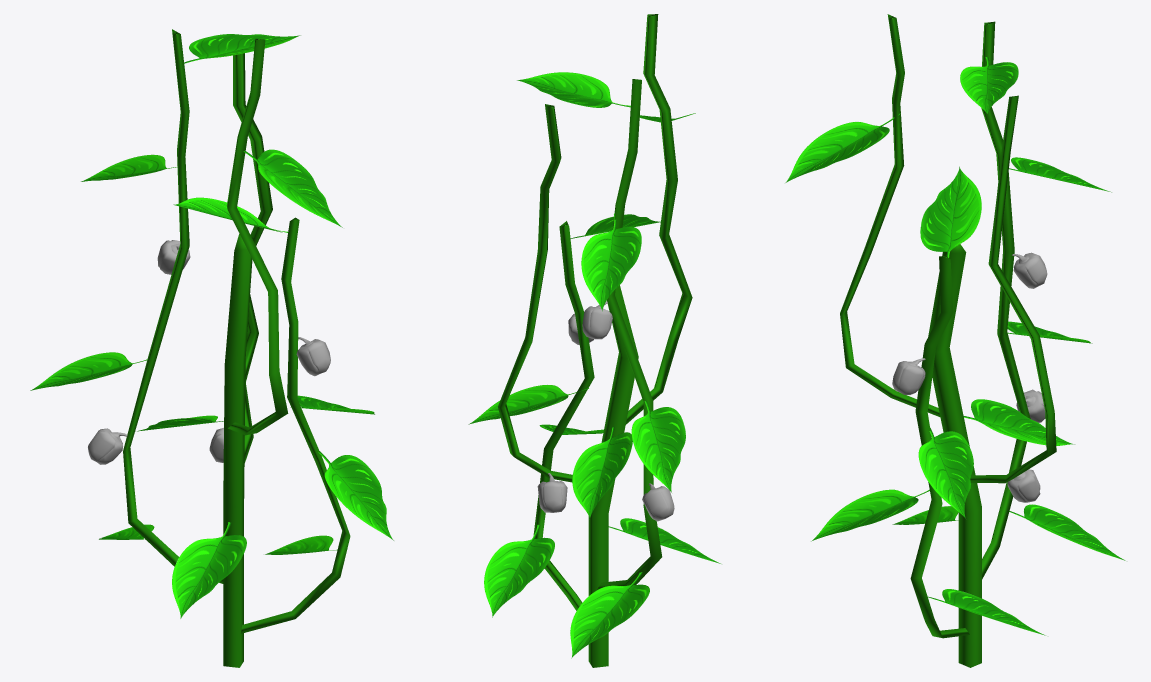
File: Bell Peppers Stage 1.fbx
3 views of the same model, side by side, from view 1: azimuth 30°, elevation 25°; view 2: azimuth 150°, elevation 25°; view 3: azimuth 270°, elevation 25° (orthographic). The views are drawn at different scales.
Visible parts, largest first — view 1: Bell_Peppers_Body_Full_Grown, polySurface211, polySurface205, polySurface206, polySurface208, polySurface210, polySurface207, polySurface214, pCube28, pCube37, polySurface212, pCube29; view 2: Bell_Peppers_Body_Full_Grown, polySurface207, polySurface212, polySurface209, polySurface208, polySurface213, polySurface210, polySurface204, polySurface211, pCube41, pCube28, pCube29 (+1 smaller); view 3: Bell_Peppers_Body_Full_Grown, polySurface214, polySurface204, polySurface206, polySurface205, polySurface213, polySurface210, polySurface209, polySurface212, polySurface207, pCube29, pCube37 (+2 smaller).
Part boxes in pixels (x1,y1,x2,y2): Bell_Peppers_Body_Full_Grown: [123, 29, 350, 667]; polySurface211: [172, 522, 246, 618]; polySurface205: [318, 451, 393, 540]; polySurface206: [243, 149, 342, 227]; polySurface208: [30, 352, 147, 390]; polySurface210: [184, 34, 300, 63]; polySurface207: [81, 154, 177, 181]; polySurface214: [173, 197, 287, 232]; pCube28: [88, 428, 127, 464]; pCube37: [296, 337, 330, 376]; polySurface212: [265, 535, 337, 554]; pCube29: [157, 240, 190, 274]; Bell_Peppers_Body_Full_Grown: [498, 14, 692, 667]; polySurface207: [581, 213, 641, 311]; polySurface212: [484, 525, 554, 617]; polySurface209: [570, 572, 649, 658]; polySurface208: [631, 400, 685, 492]; polySurface213: [572, 426, 632, 519]; polySurface210: [517, 72, 630, 107]; polySurface204: [468, 385, 588, 424]; polySurface211: [608, 518, 720, 563]; pCube41: [537, 473, 567, 512]; pCube28: [642, 483, 674, 521]; pCube29: [582, 301, 612, 339]; Bell_Peppers_Body_Full_Grown: [840, 14, 1056, 667]; polySurface214: [920, 166, 981, 257]; polySurface204: [918, 428, 973, 518]; polySurface206: [785, 113, 900, 182]; polySurface205: [811, 489, 930, 541]; polySurface213: [963, 399, 1075, 445]; polySurface210: [960, 57, 1018, 113]; polySurface209: [1009, 504, 1125, 560]; polySurface212: [928, 589, 1045, 635]; polySurface207: [1009, 157, 1111, 192]; pCube29: [1012, 252, 1047, 288]; pCube37: [892, 358, 925, 394].
Bounding box in the file's own units: 0.3086 × 0.6004 × 0.3166.
3 materials, 1 textured.
